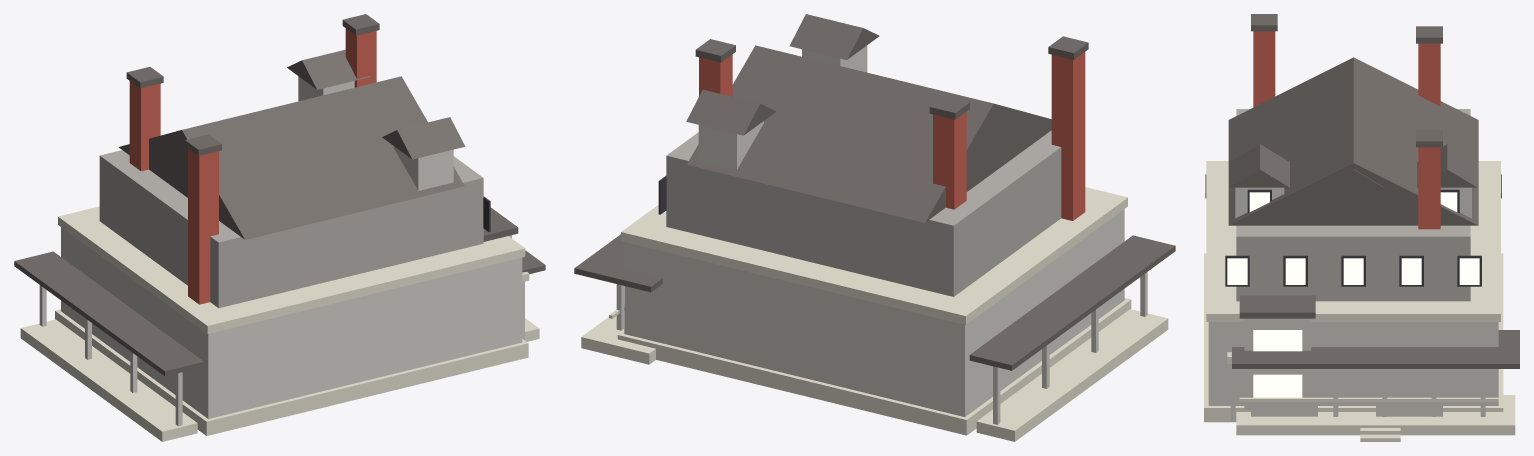
The model's file is colina.glb.
The picture shows the model from 3 angles, left to right: view 1: azimuth 30°, elevation 25°; view 2: azimuth 150°, elevation 25°; view 3: azimuth 270°, elevation 25°; orthographic projection. The views are drawn at different scales.
Parts seen in each view (by area): view 1: colina; view 2: colina; view 3: colina.
Boxes of the visible parts, x1,y1,x2,y2 form: colina: [14, 14, 545, 441]; colina: [574, 14, 1175, 441]; colina: [1204, 14, 1519, 441].
Size of the model in its own units: 20.6 by 12.9 by 14.15.
